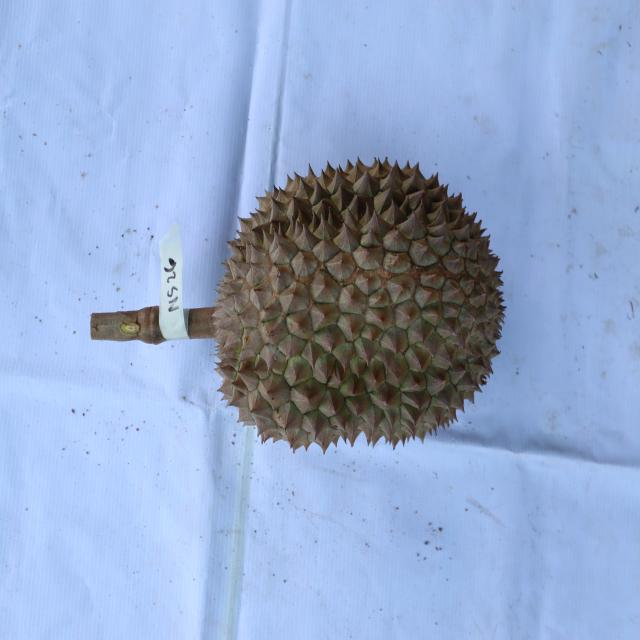mature: (210, 155, 507, 458)
